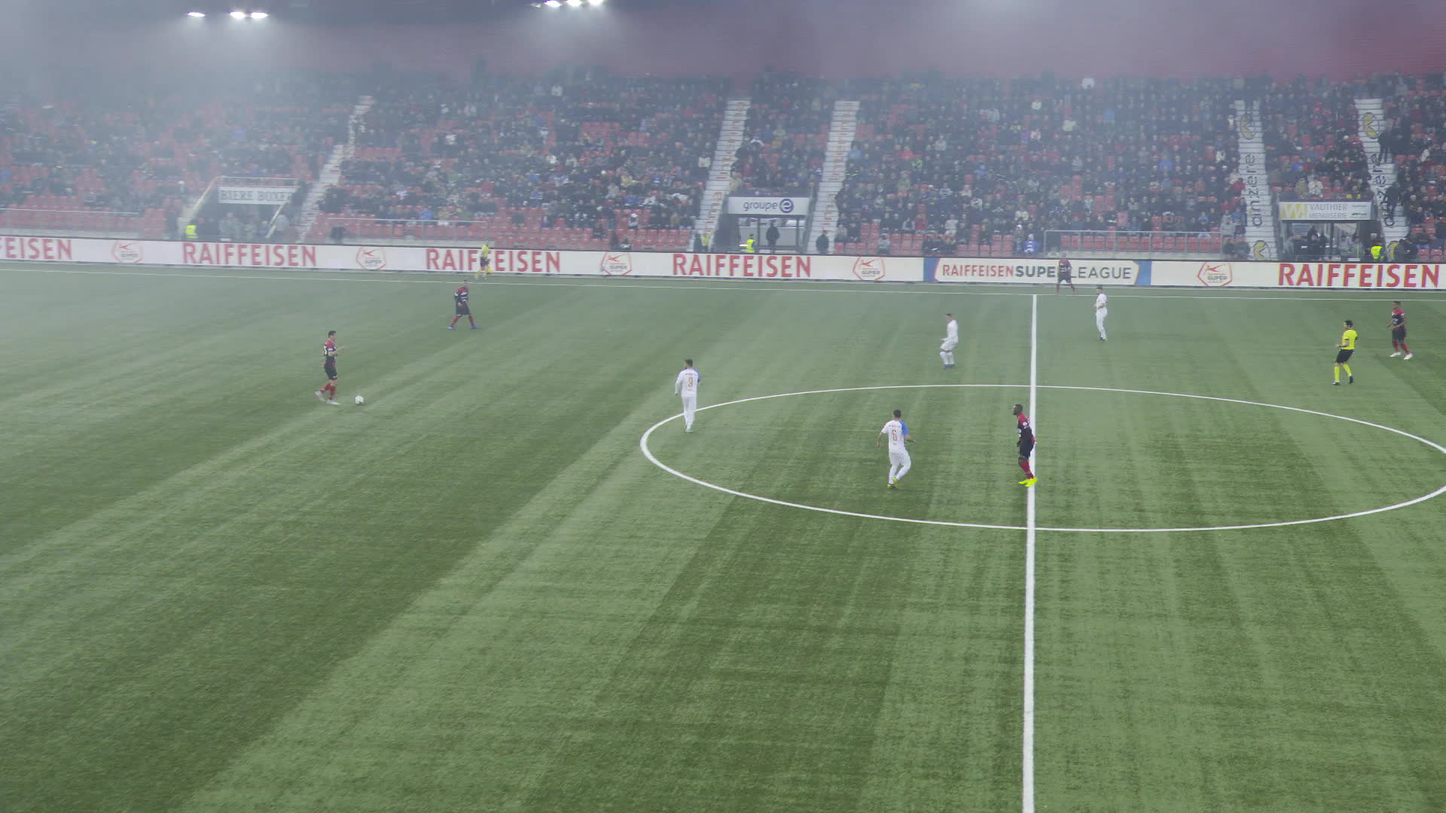ball: (354, 394, 363, 403)
player: (878, 407, 914, 486), (1008, 403, 1042, 486), (313, 330, 346, 404), (676, 355, 701, 431), (1387, 300, 1414, 359), (941, 313, 965, 369), (450, 278, 474, 330), (1056, 253, 1076, 295), (1094, 287, 1109, 342)
referee: (1333, 318, 1359, 385), (474, 239, 492, 280)
